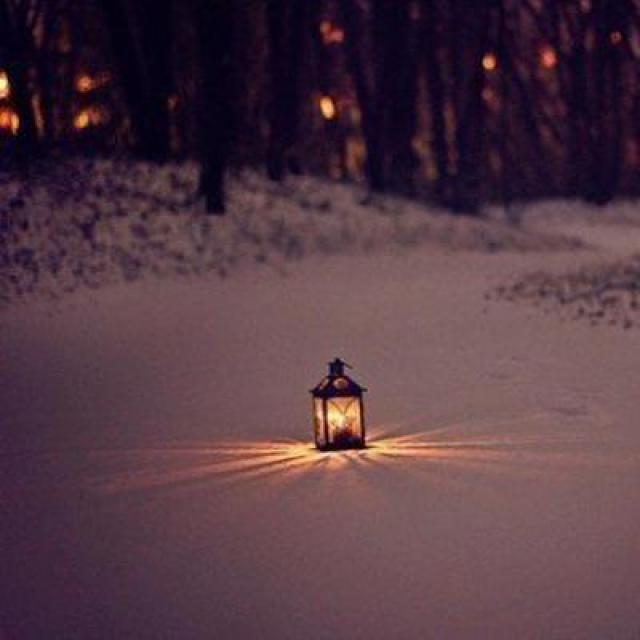other: (271, 396, 421, 466), (0, 69, 21, 142), (317, 95, 354, 132), (67, 105, 100, 132), (536, 43, 557, 73), (478, 47, 499, 72)
